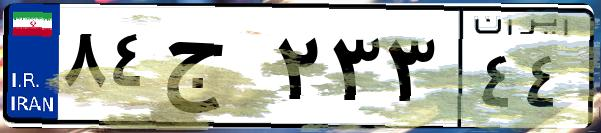2: (270, 28, 330, 110)
3: (385, 28, 445, 110), (330, 28, 385, 110)
4: (475, 38, 525, 113), (525, 38, 570, 115), (110, 28, 158, 98)
8: (57, 26, 110, 100)
ج: (158, 20, 270, 120)
